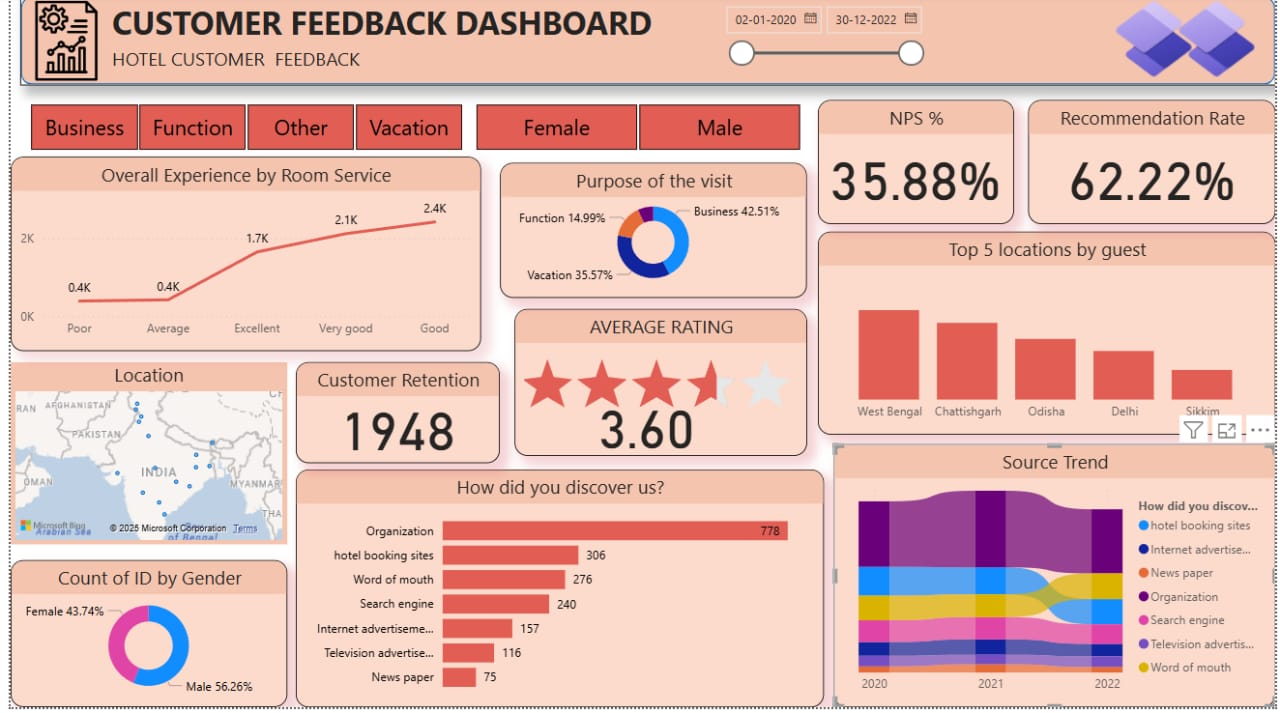

This screenshot's page, from the dashboard's own definition file:
{"tool":"powerbi","page":{"name":"Page 1","canvas":[1280,720],"ordinal":0},"visuals":[{"type":"shape","box":[9.6,0,1270.7,90.6],"z":0},{"type":"image","box":[0,0,112.5,90.6],"z":1000},{"type":"textbox","box":[97.4,0,590.1,72.7],"z":2000},{"type":"textbox","box":[97.4,45.3,295,38.4],"z":3000},{"type":"slicer","fields":{"Values":["Feedback.Checkout Date"]},"box":[712.2,0,220.9,105.7],"z":4000},{"type":"image","box":[1176,0,87.8,86.4],"z":5000},{"type":"image","box":[1112.9,0,87.8,86.4],"z":6000},{"type":"PBI_CV_9053509D_D461_463A_B485_CE9F6AB0F13D","title":"AVERAGE RATING","fields":{"max":["Feedback.Max_Rating"],"value":["Avg(Feedback.Rate your overall experience in our hotel)"]},"box":[486.7,316.7,319.2,149.2],"z":7000},{"type":"card","fields":{"Values":["Feedback.AvgRate"]},"box":[871.9,391.3,100.3,47.7],"z":8000},{"type":"barChart","title":"NPS Category","fields":{"Y":["CountNonNull(General.ID)"],"Category":["General.NPS Category"]},"box":[915.9,483,281.3,144.3],"z":9000},{"type":"slicer","fields":{"Values":["Feedback.Purpose of the visit"]},"box":[0,102.7,475.7,59.9],"z":10000},{"type":"slicer","fields":{"Values":["Feedback.Gender"]},"box":[445.1,102.7,377.9,59.9],"z":11000},{"type":"donutChart","title":"Purpose of the visit","fields":{"Category":["Feedback.Purpose of the visit"],"Y":["CountNonNull(Feedback.ID)"]},"box":[486.7,168.8,319.2,137],"z":12000},{"type":"donutChart","title":"Gender","fields":{"Category":["Feedback.Gender"],"Y":["CountNonNull(Feedback.ID)"]},"box":[288.6,370.5,187.1,95.4],"z":13000},{"type":"columnChart","title":"Top 5 locations by guest","fields":{"Category":["Feedback.Location"],"Y":["CountNonNull(Feedback.ID)"]},"box":[816.9,238.5,463.5,227.4],"z":14000},{"type":"barChart","title":"How did you discover us?","fields":{"Category":["Feedback.How did you discover us?"],"Y":["CountNonNull(Feedback.ID)"]},"box":[288.6,473.2,517.3,247],"z":15000},{"type":"card","title":"NPS %","fields":{"Values":["Feedback.NPS"]},"box":[816.9,105.2,203,126],"z":16000},{"type":"card","title":"Recommendation Rate","fields":{"Values":["Feedback.Recommendation_Rate"]},"box":[1029.6,105.2,250.7,126],"z":17000},{"type":"ribbonChart","title":"Source Trend","fields":{"Y":["CountNonNull(Feedback.How did you discover us?)"],"Series":["Feedback.How did you discover us?"],"Category":["Date.Year"]},"box":[816.9,473.2,463.5,247],"z":18000},{"type":"map","fields":{"Category":["Feedback.Location"]},"box":[0,370.5,280,349.7],"z":19000},{"type":"lineChart","title":"Overall Experience by Room Service","fields":{"Category":["Feedback.Room service"],"Y":["Sum(General.RATE YOUR OVERALL EXPERIENCE IN OUR HOTEL)"]},"box":[0,162.6,475.7,196.9],"z":21000},{"type":"card","fields":{"Values":["Feedback.AvgRate"]},"box":[539.3,391.3,209.1,81.9],"z":22000}]}

Visuals, with their boxes in screenshot pixels (x1, y1, x2, y2), scaled from the page's 1280x720 canvas onto the 1280x713 screenshot:
shape: region(10, 0, 1279, 90)
image: region(0, 0, 112, 90)
textbox: region(97, 0, 688, 72)
textbox: region(97, 45, 392, 83)
slicer - Feedback.Checkout Date: region(712, 0, 933, 105)
image: region(1176, 0, 1264, 86)
image: region(1113, 0, 1201, 86)
"AVERAGE RATING" PBI_CV_9053509D_D461_463A_B485_CE9F6AB0F13D: region(487, 314, 806, 461)
card - Feedback.AvgRate: region(872, 387, 972, 435)
"NPS Category" barChart: region(916, 478, 1197, 621)
slicer - Feedback.Purpose of the visit: region(0, 102, 476, 161)
slicer - Feedback.Gender: region(445, 102, 823, 161)
"Purpose of the visit" donutChart: region(487, 167, 806, 303)
"Gender" donutChart: region(289, 367, 476, 461)
"Top 5 locations by guest" columnChart: region(817, 236, 1279, 461)
"How did you discover us?" barChart: region(289, 469, 806, 712)
"NPS %" card: region(817, 104, 1020, 229)
"Recommendation Rate" card: region(1030, 104, 1279, 229)
"Source Trend" ribbonChart: region(817, 469, 1279, 712)
map - Feedback.Location: region(0, 367, 280, 712)
"Overall Experience by Room Service" lineChart: region(0, 161, 476, 356)
card - Feedback.AvgRate: region(539, 387, 748, 469)
